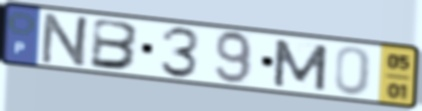0: (332, 45, 374, 98)
3: (159, 25, 202, 80)
9: (212, 29, 255, 87)
B: (87, 17, 143, 73)
M: (271, 37, 331, 93)
N: (38, 11, 95, 69)
